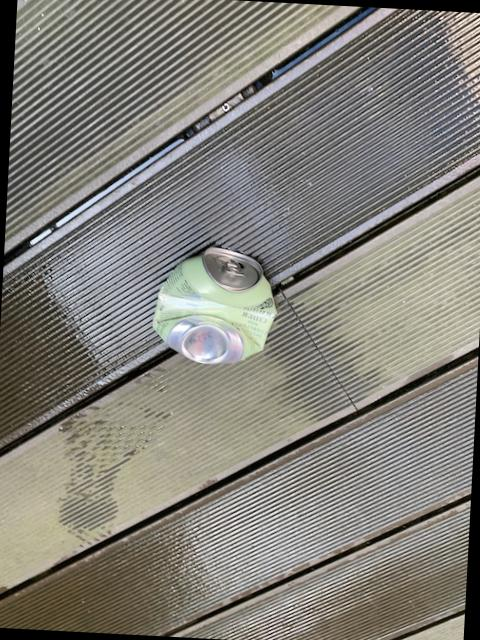metal: (152, 245, 275, 363)
